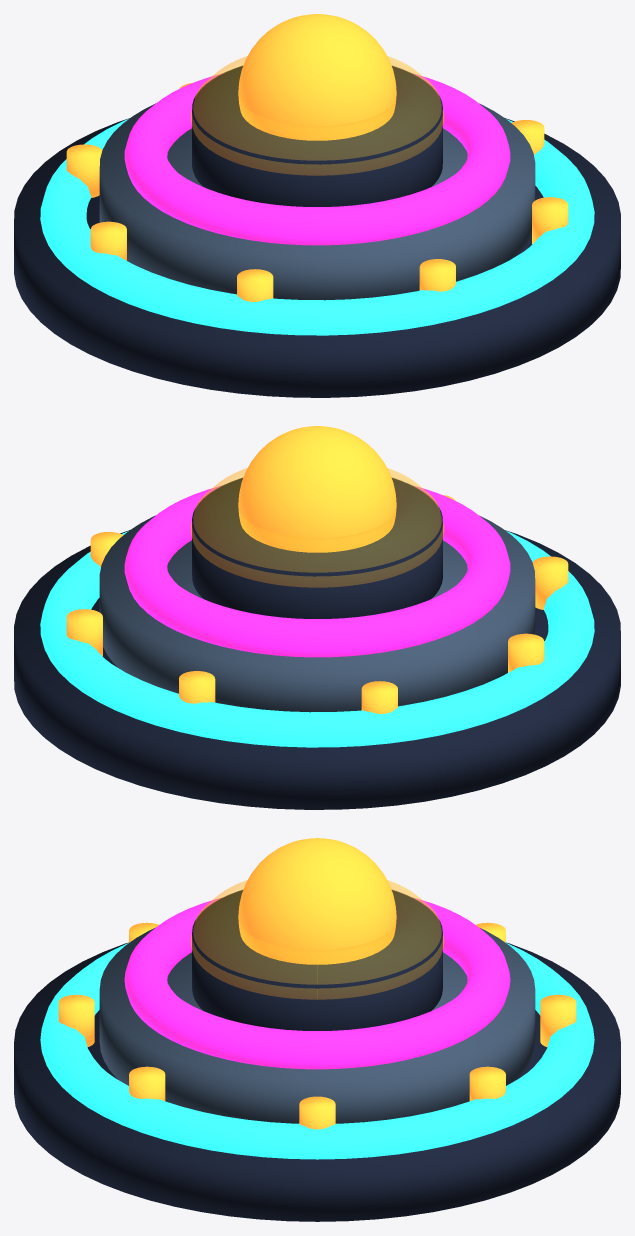
The model's file is reactor.glb.
3 renders of one model, top to bottom at view 1: azimuth 30°, elevation 25°; view 2: azimuth 150°, elevation 25°; view 3: azimuth 270°, elevation 25°, orthographic.
Visible parts, largest first — view 1: Reactor_Base, Reactor_Deck, Reactor_OuterCyan, Reactor_PinkRing, Reactor_CoreHousing, Reactor_Core, Reactor_CoreGlow, Reactor; view 2: Reactor_Base, Reactor_Deck, Reactor_OuterCyan, Reactor_PinkRing, Reactor_CoreHousing, Reactor_Core, Reactor_CoreGlow, Reactor; view 3: Reactor_Base, Reactor_Deck, Reactor_OuterCyan, Reactor_PinkRing, Reactor_CoreHousing, Reactor_Core, Reactor_CoreGlow, Reactor.
Part boxes in pixels (x1,y1,x2,y2): Reactor_Base: (14, 118, 620, 397); Reactor_Deck: (99, 103, 535, 300); Reactor_OuterCyan: (40, 119, 594, 335); Reactor_PinkRing: (124, 73, 510, 245); Reactor_CoreHousing: (192, 65, 442, 206); Reactor_Core: (238, 14, 396, 140); Reactor_CoreGlow: (190, 56, 444, 175); Reactor: (66, 83, 568, 301); Reactor_Base: (14, 530, 620, 809); Reactor_Deck: (99, 515, 535, 712); Reactor_OuterCyan: (40, 531, 594, 747); Reactor_PinkRing: (124, 485, 510, 657); Reactor_CoreHousing: (192, 477, 442, 618); Reactor_Core: (238, 426, 396, 552); Reactor_CoreGlow: (190, 468, 444, 587); Reactor: (66, 495, 568, 713); Reactor_Base: (14, 942, 620, 1221); Reactor_Deck: (99, 927, 535, 1123); Reactor_OuterCyan: (40, 943, 594, 1159); Reactor_PinkRing: (124, 898, 510, 1069); Reactor_CoreHousing: (192, 890, 442, 1030); Reactor_Core: (238, 838, 396, 964); Reactor_CoreGlow: (190, 880, 444, 999); Reactor: (58, 922, 576, 1129).
Bounding box in the file's own units: 1.84 × 0.83 × 1.84.
